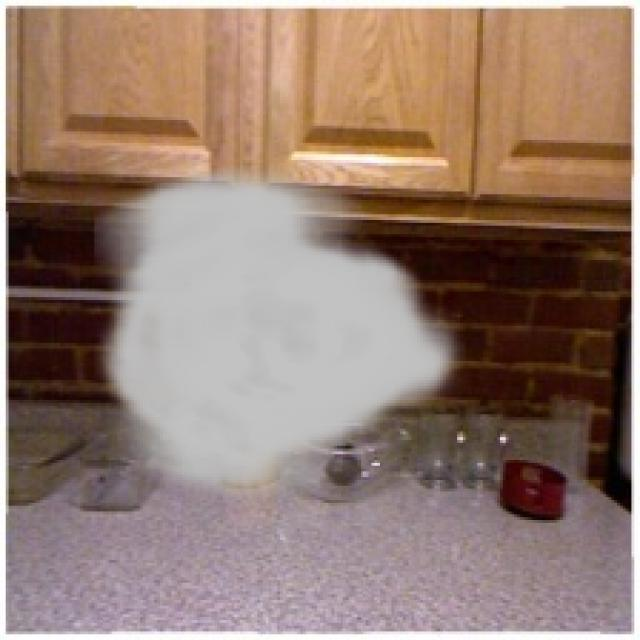Smoke: (94, 166, 466, 508)
